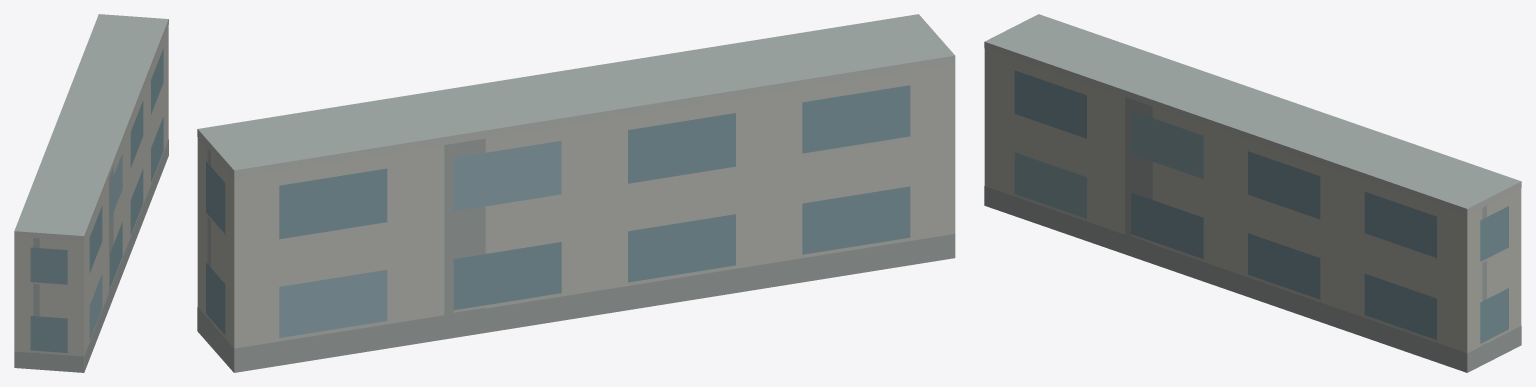
The model's file is survey-upis-32991849.glb.
The picture shows the model from 3 angles, left to right: view 1: azimuth 30°, elevation 25°; view 2: azimuth 150°, elevation 25°; view 3: azimuth 270°, elevation 25°; orthographic projection. The views are drawn at different scales.
Visible parts, largest first — view 1: survey-upis-32991849.tmp; view 2: survey-upis-32991849.tmp; view 3: survey-upis-32991849.tmp.
Part boxes in pixels (left/top/right/bottom): survey-upis-32991849.tmp: left=14, top=14, right=168, bottom=372; survey-upis-32991849.tmp: left=197, top=14, right=955, bottom=372; survey-upis-32991849.tmp: left=984, top=14, right=1521, bottom=372.
Size of the model in its own units: 15.56 by 6.1 by 18.11.
